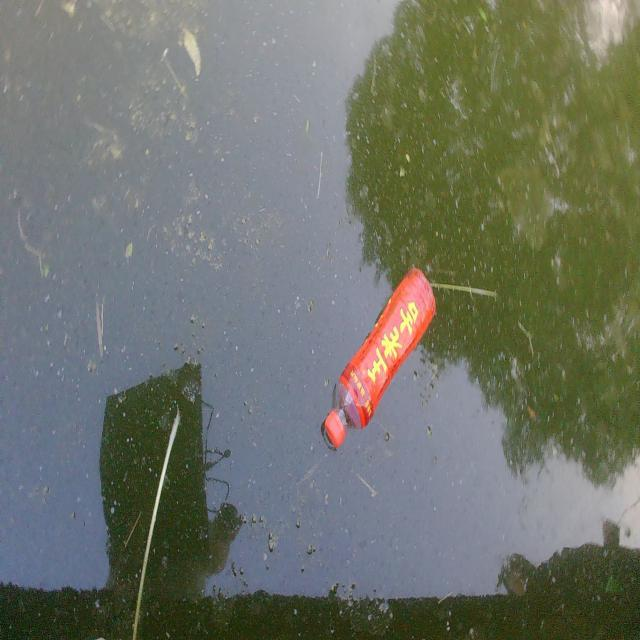bottle: (306, 234, 452, 481)
